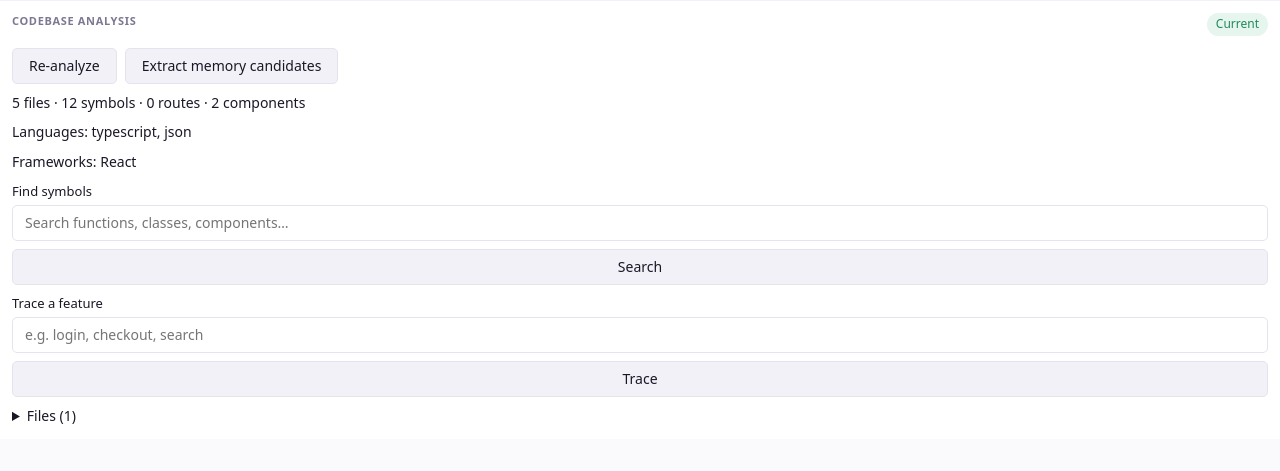
Test: CodebasePanel - search and trace › reports when a symbol search matches nothing
Expected: the text "Current" is shown, [1207, 13, 1268, 36]
In the field labelled "Find symbols": point(640, 223) [25, 212, 1255, 234], type "ghost"
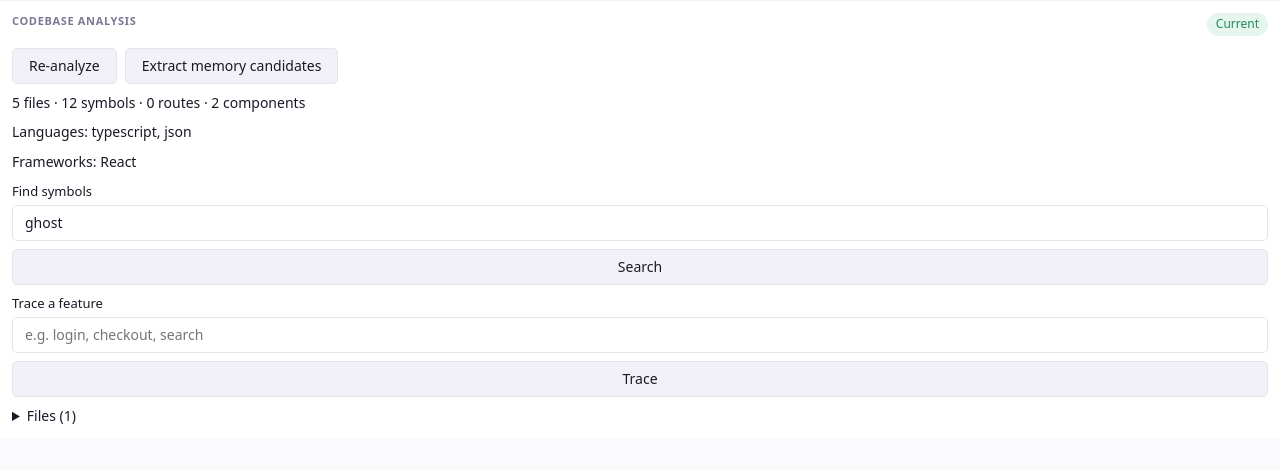
Click the button "Search": point(640, 267) [12, 249, 1268, 285]
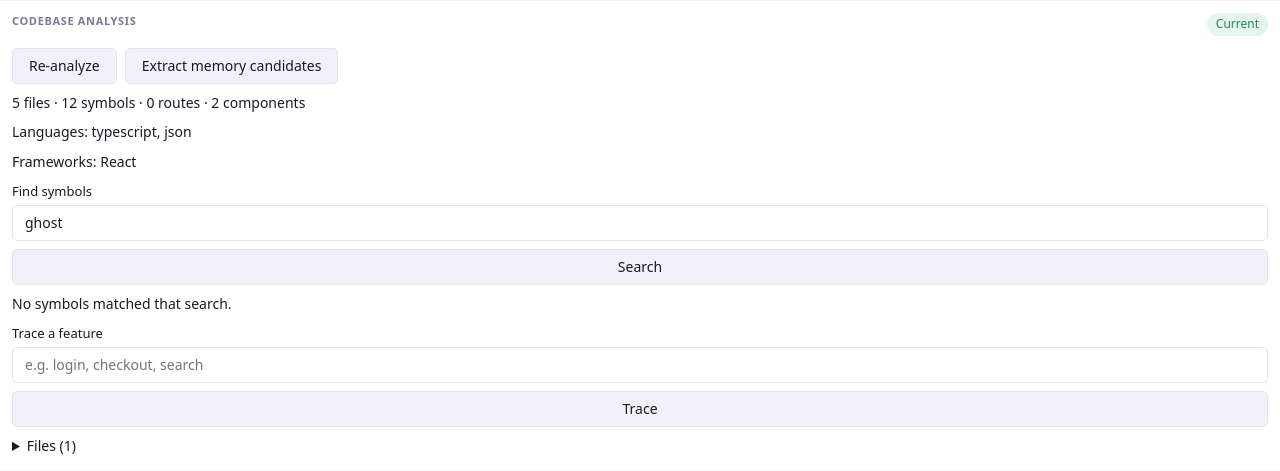
Expected: the list item "No symbols matched that search." is shown, [12, 294, 232, 313]
